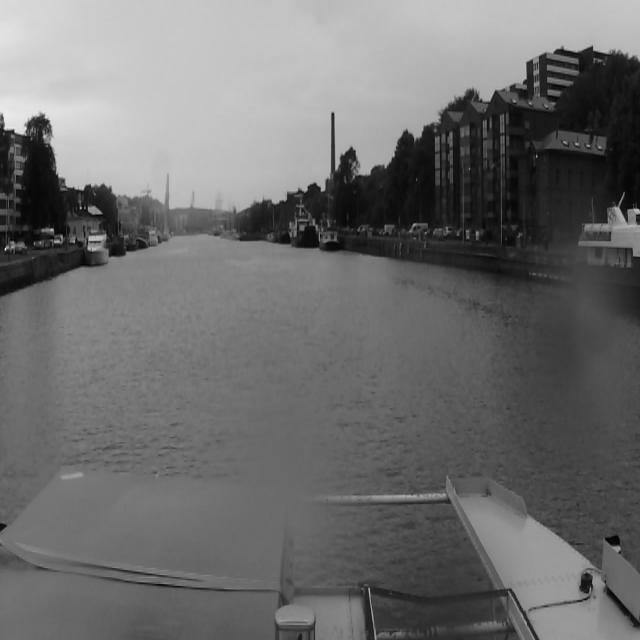ship: (576, 201, 640, 310), (288, 204, 318, 248), (86, 231, 108, 268), (318, 218, 341, 252)
